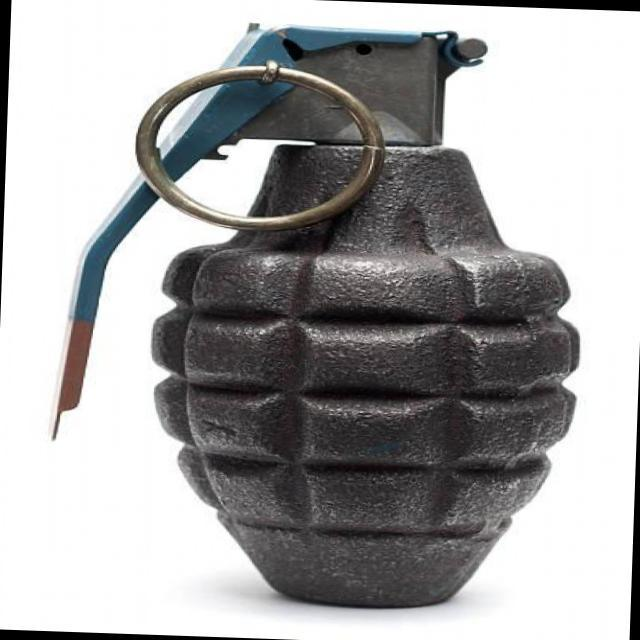grenade: (48, 2, 592, 612)
